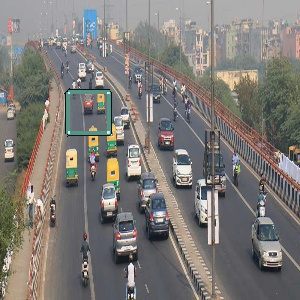square: (62, 86, 115, 139)
